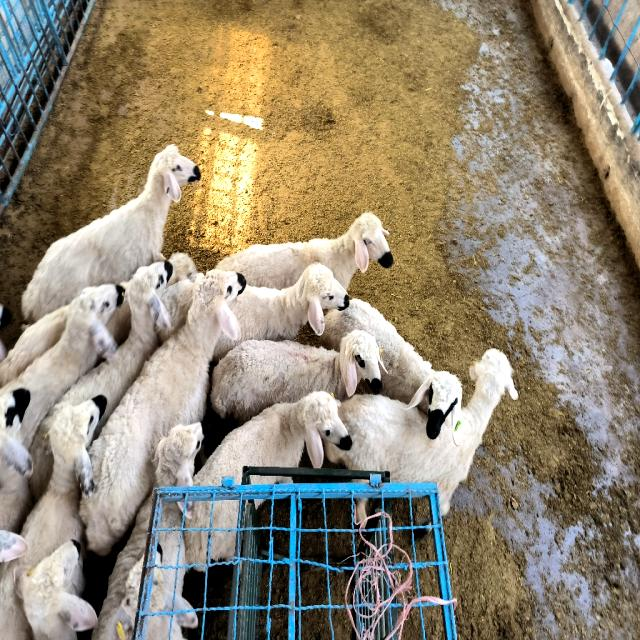sheep: (80, 270, 239, 555), (325, 350, 518, 514), (22, 145, 200, 322), (0, 397, 105, 638), (55, 262, 171, 438), (321, 298, 461, 438), (6, 285, 120, 448), (211, 330, 381, 423), (194, 392, 351, 485), (218, 212, 394, 289), (214, 263, 349, 361), (92, 497, 151, 639), (21, 540, 98, 639), (0, 388, 32, 532), (184, 502, 239, 565), (155, 422, 204, 487), (30, 415, 54, 499)
